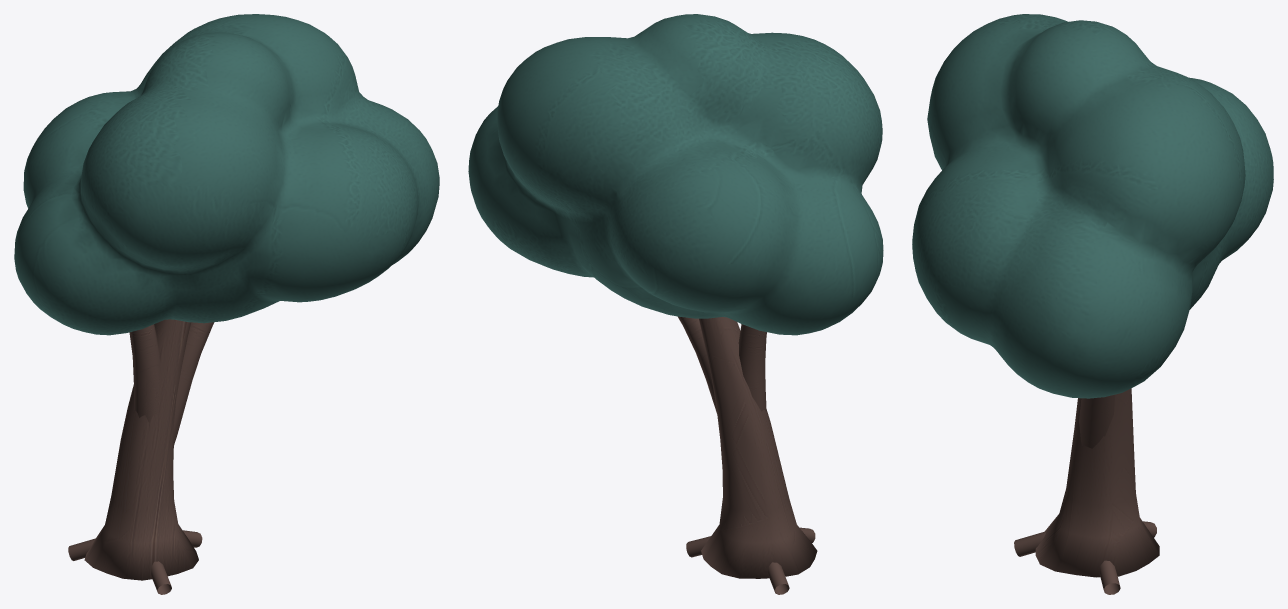
3 views of the same model, side by side, from view 1: azimuth 30°, elevation 25°; view 2: azimuth 150°, elevation 25°; view 3: azimuth 270°, elevation 25° (orthographic). The views are drawn at different scales.
Visible parts, largest first — view 1: Canopy, Trunk; view 2: Canopy, Trunk; view 3: Canopy, Trunk.
Boxes of the visible parts, x1,y1,x2,y2 form: Canopy: (14, 14, 439, 335); Trunk: (68, 319, 214, 594); Canopy: (468, 14, 883, 335); Trunk: (677, 316, 817, 594); Canopy: (912, 14, 1273, 398); Trunk: (1014, 388, 1159, 594).
Bounding box in the file's own units: 3.78 × 4.69 × 2.7.
Materials: 2 (2 with a texture image).
